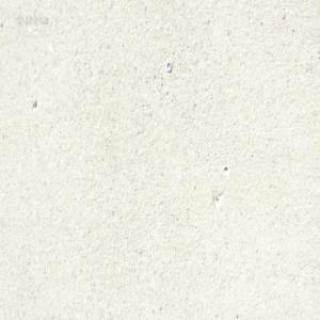Washertrack_idkeyframe: (164, 61, 172, 72)
